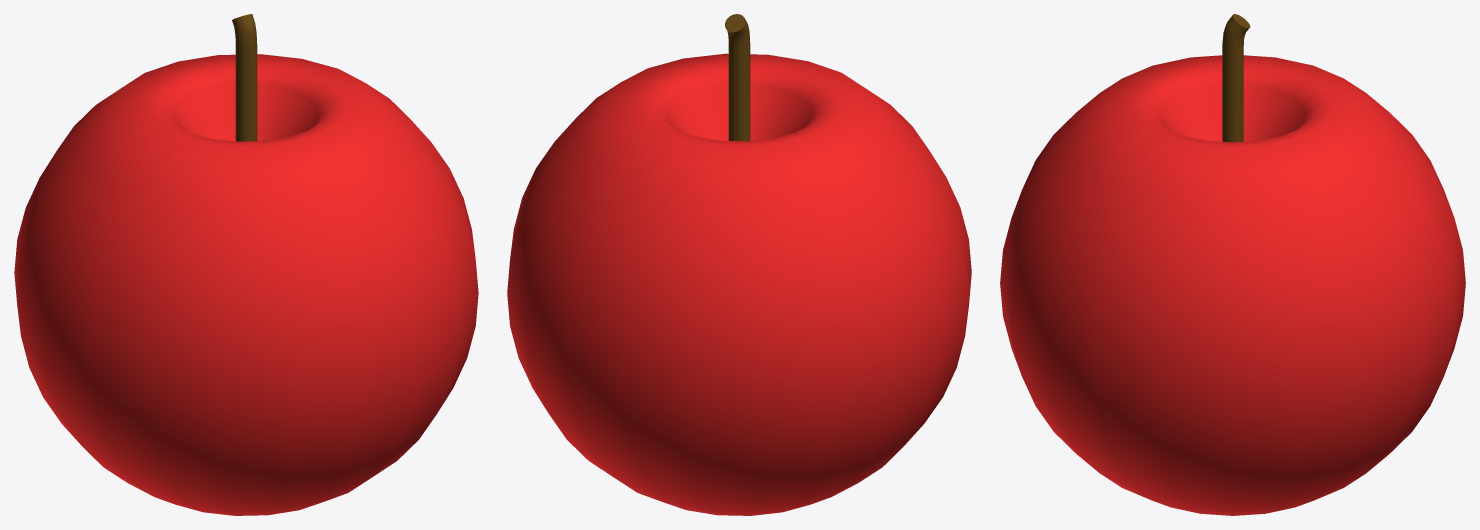
File: apple.fbx
The picture shows the model from 3 angles, left to right: view 1: azimuth 30°, elevation 25°; view 2: azimuth 150°, elevation 25°; view 3: azimuth 270°, elevation 25°; orthographic projection.
Parts seen in each view (by area): view 1: pSphere1; view 2: pSphere1; view 3: pSphere1.
Boxes of the visible parts, <box> form: pSphere1: <box>14,14,478,515</box>; pSphere1: <box>507,14,971,515</box>; pSphere1: <box>1000,14,1465,515</box>.
Size of the model in its own units: 2 by 2.22 by 2.
Materials: 1 (1 with a texture image).
